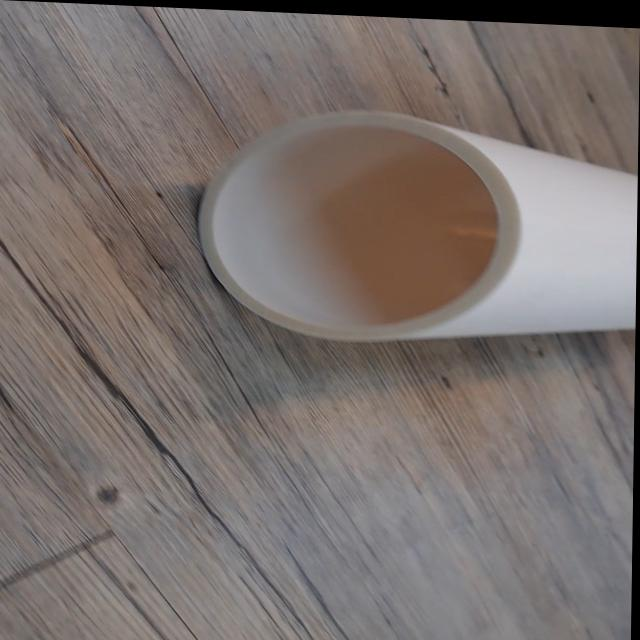CORAL: (179, 95, 639, 368)
